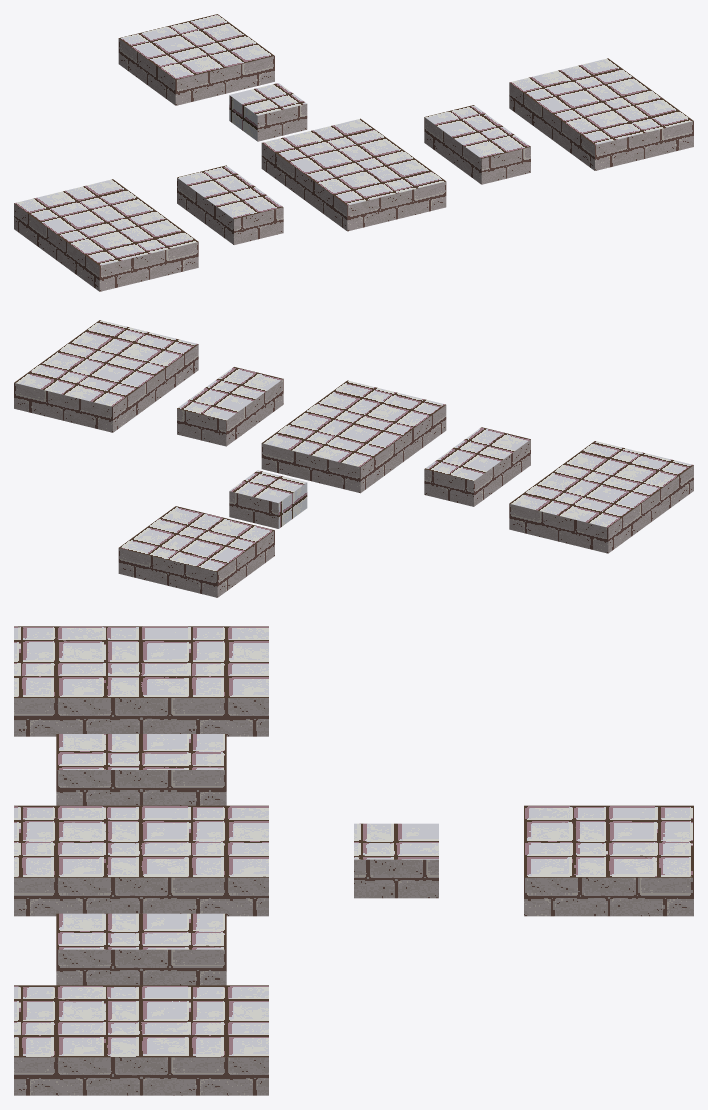
Rendered from jump_across.glb.
3 renders of one model, top to bottom at view 1: azimuth 30°, elevation 25°; view 2: azimuth 150°, elevation 25°; view 3: azimuth 270°, elevation 25°, orthographic. The views are drawn at different scales.
Visible parts, largest first — view 1: Level-col; view 2: Level-col; view 3: Level-col.
Boxes of the visible parts, box(x1,y1,x2,y2) form: Level-col: box(14, 14, 693, 291); Level-col: box(14, 320, 693, 597); Level-col: box(14, 626, 693, 1095).
Size of the model in its own units: 24 by 1 by 16.
Materials: 2 (2 with a texture image).
